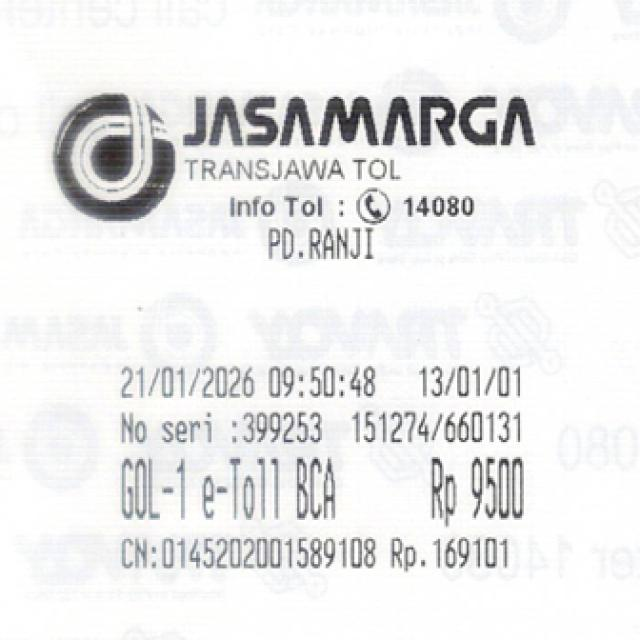date: (112, 361, 381, 398)
store: (181, 86, 541, 184)
total: (419, 451, 528, 525)
